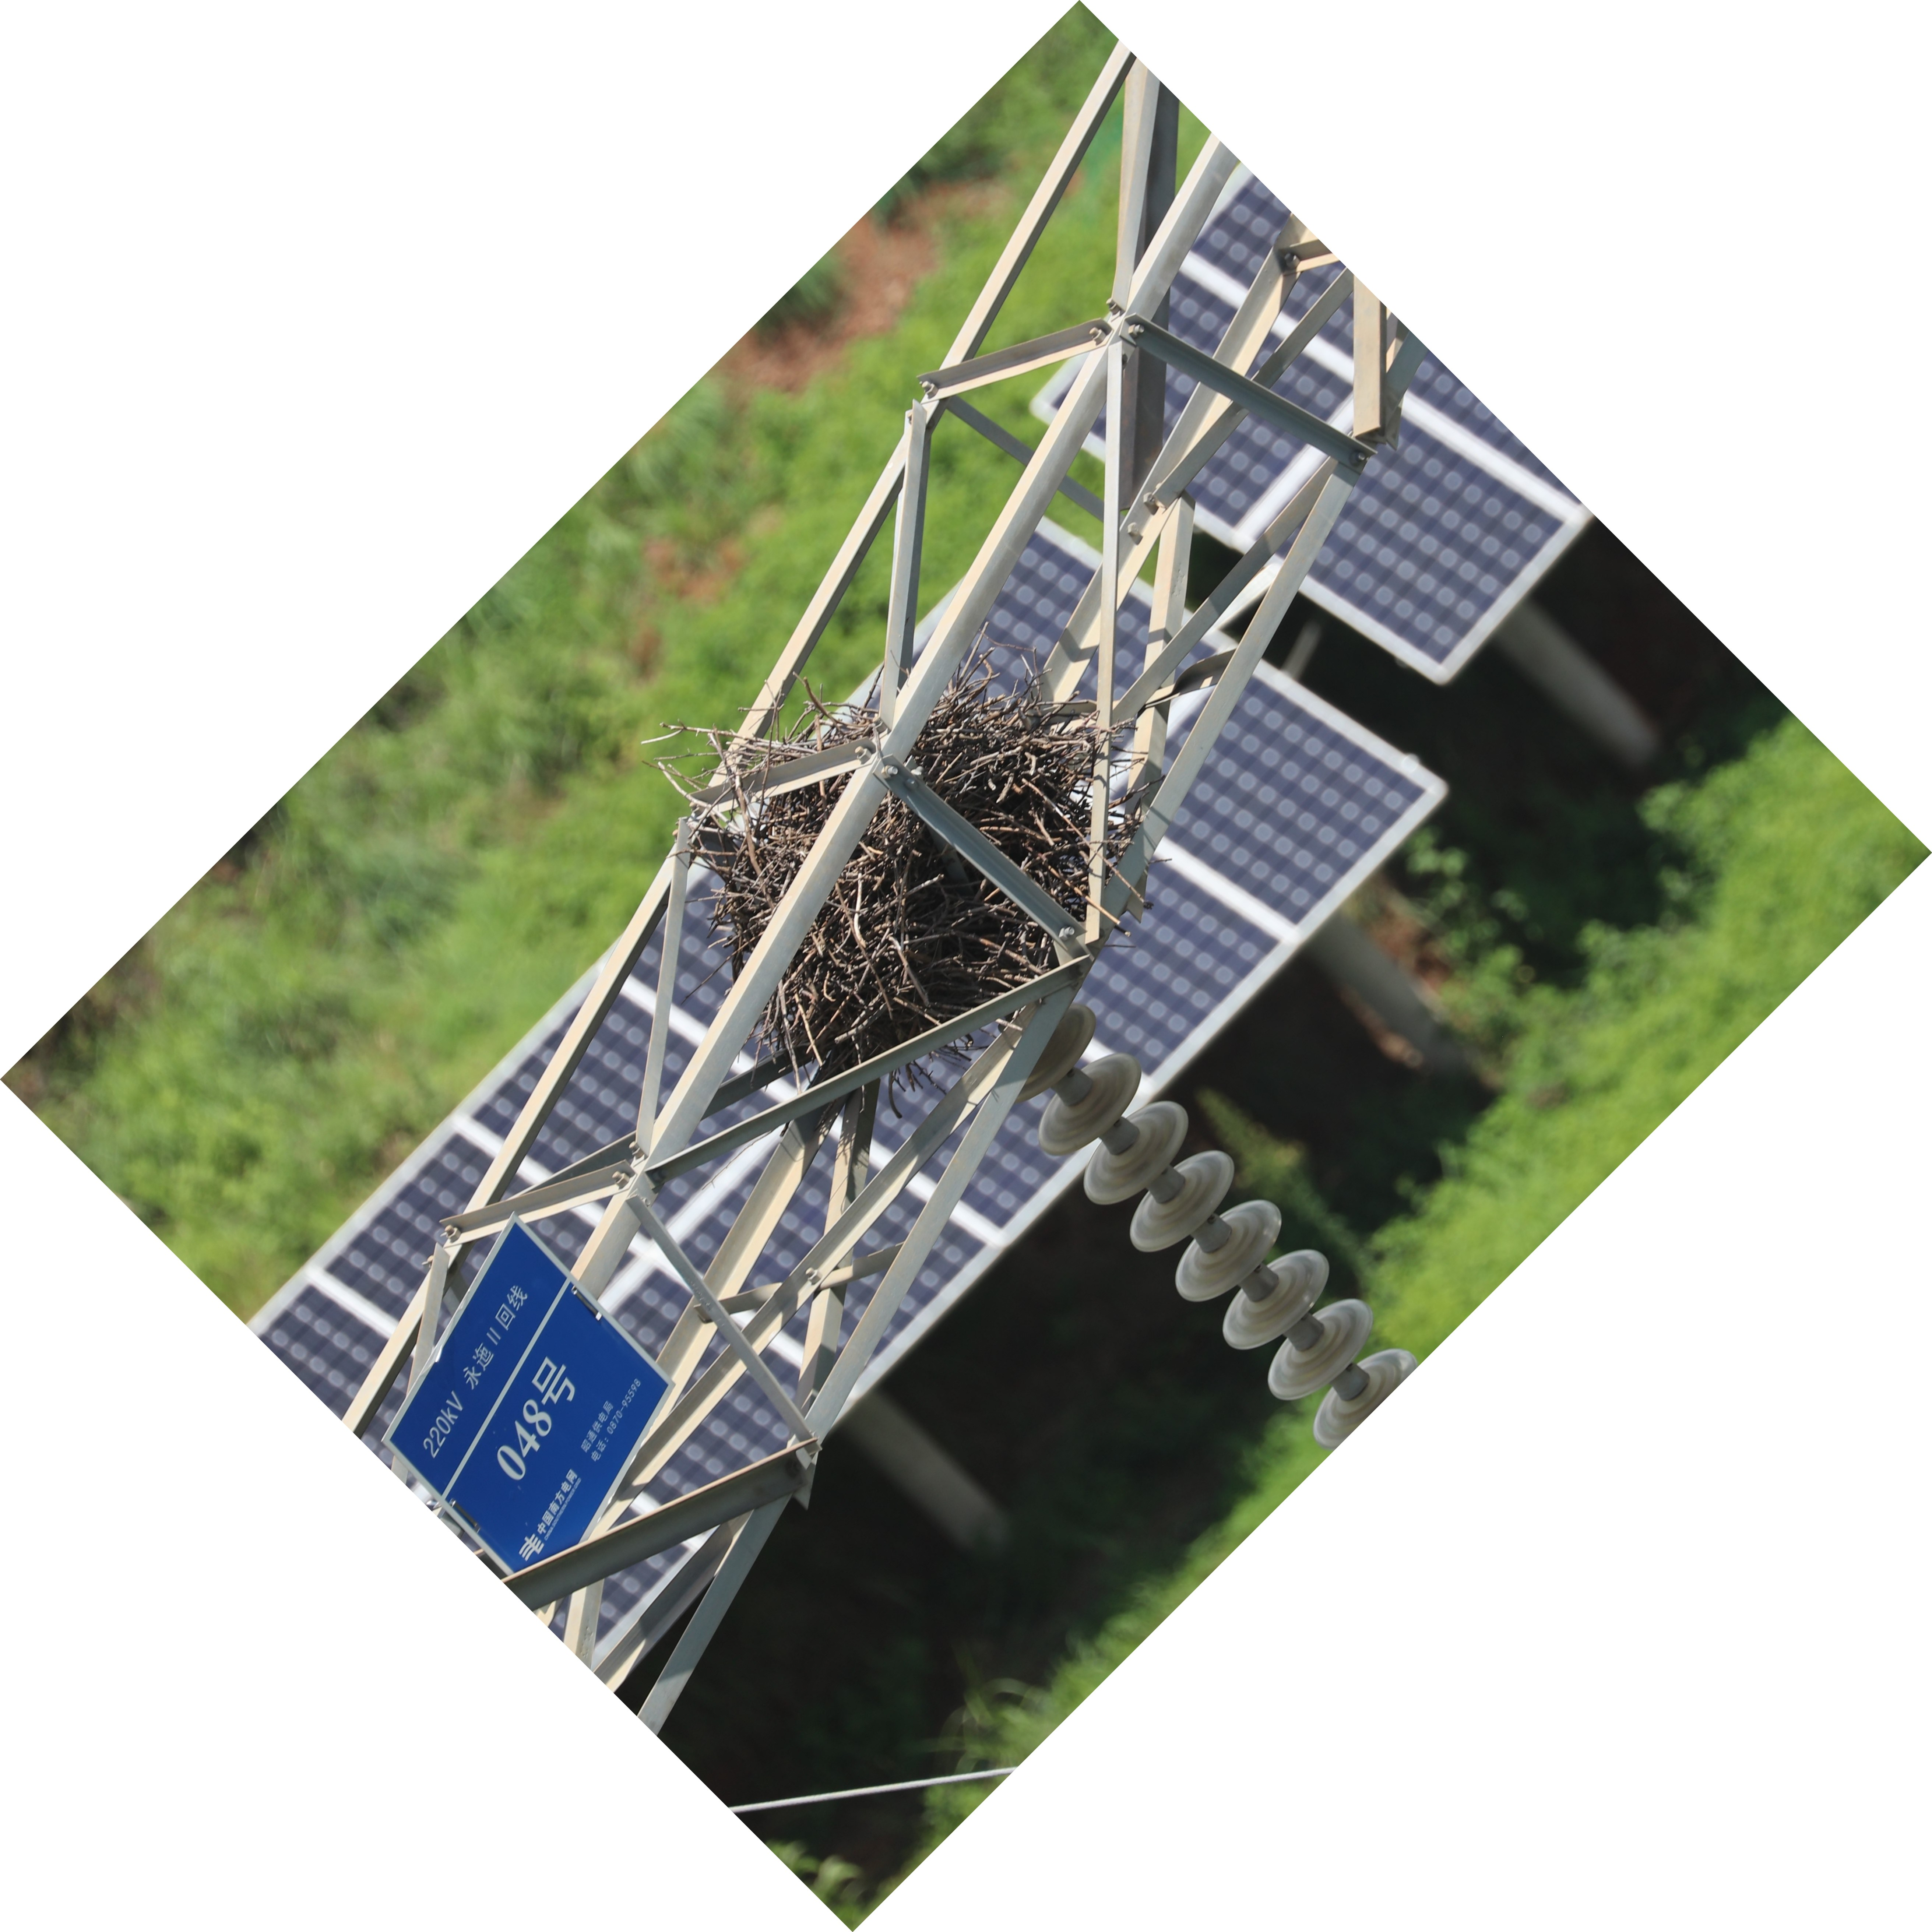niaowo: (676, 651, 1138, 1088)
